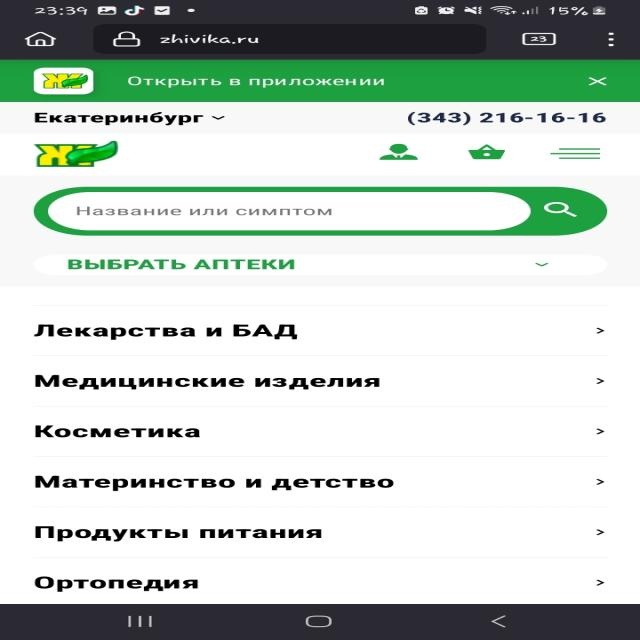button: (116, 71, 404, 91), (576, 74, 618, 89)
site: (4, 61, 640, 103)
